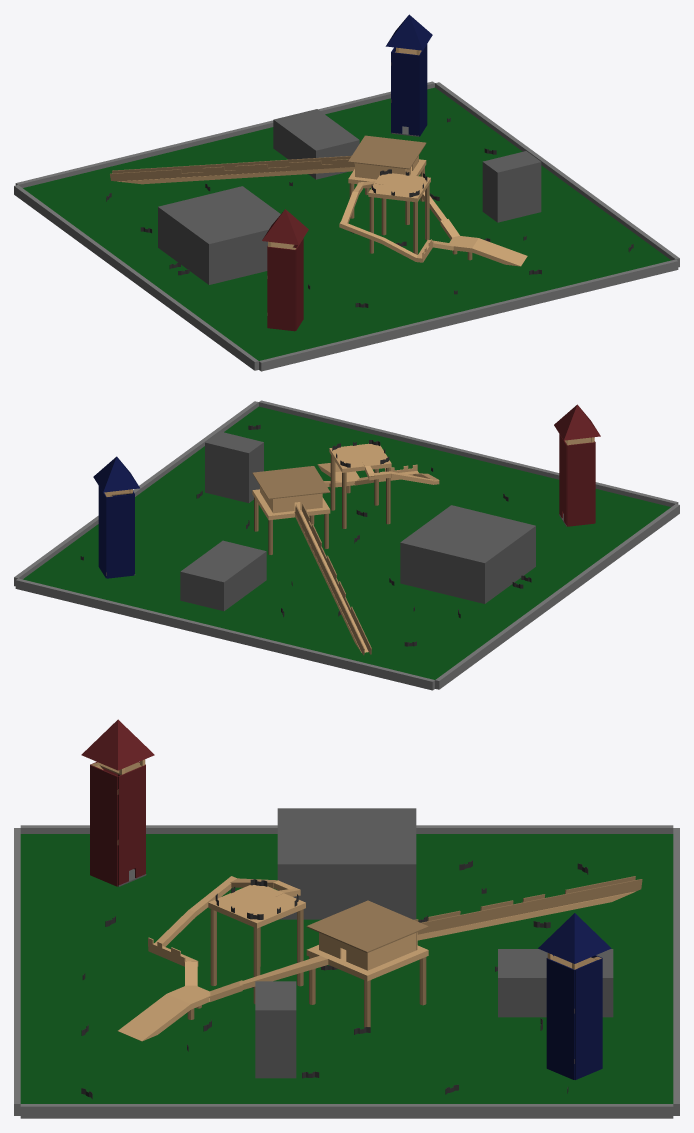
File: newredbluemap.glb
3 renders of one model, top to bottom at view 1: azimuth 30°, elevation 25°; view 2: azimuth 150°, elevation 25°; view 3: azimuth 270°, elevation 25°, orthographic. The views are drawn at different scales.
Parts seen in each view (by area): view 1: Plane, Plane.070, Plane.003, Plane.072, Plane.071, Plane.002, Plane.004, Plane.065, Plane.035, Plane.001, Plane.109, Plane.030 (+8 smaller); view 2: Plane, Plane.070, Plane.004, Plane.071, Plane.072, Plane.002, Plane.003, Plane.034, Plane.068, Plane.030, Plane.001, Plane.016 (+9 smaller); view 3: Plane, Plane.070, Plane.001, Plane.071, Plane.002, Plane.072, Plane.030, Plane.033, Plane.036, Plane.067, Plane.066, Plane.108 (+13 smaller).
Part boxes in pixels (<box>): Plane: <box>23,87,670,360</box>; Plane.070: <box>158,186,280,284</box>; Plane.003: <box>259,259,678,371</box>; Plane.072: <box>482,151,541,222</box>; Plane.071: <box>273,109,359,179</box>; Plane.002: <box>14,185,258,370</box>; Plane.004: <box>15,81,434,187</box>; Plane.065: <box>267,247,295,331</box>; Plane.035: <box>391,52,419,136</box>; Plane.001: <box>435,82,679,267</box>; Plane.109: <box>110,159,354,181</box>; Plane.030: <box>348,135,426,169</box>; Plane: <box>23,406,670,679</box>; Plane.070: <box>400,505,535,603</box>; Plane.004: <box>15,578,434,690</box>; Plane.071: <box>180,540,266,611</box>; Plane.072: <box>205,431,263,503</box>; Plane.002: <box>435,504,679,689</box>; Plane.003: <box>259,400,678,506</box>; Plane.034: <box>106,494,134,578</box>; Plane.068: <box>567,442,594,526</box>; Plane.030: <box>252,466,330,499</box>; Plane.001: <box>14,401,258,586</box>; Plane.016: <box>329,443,391,472</box>; Plane: <box>20,834,673,1103</box>; Plane.070: <box>277,808,416,919</box>; Plane.001: <box>20,1104,673,1118</box>; Plane.071: <box>498,949,613,1017</box>; Plane.002: <box>20,825,673,833</box>; Plane.072: <box>255,981,296,1078</box>; Plane.030: <box>306,900,428,952</box>; Plane.033: <box>546,958,574,1079</box>; Plane.036: <box>574,958,602,1079</box>; Plane.067: <box>90,765,117,886</box>; Plane.066: <box>118,765,145,885</box>; Plane.108: <box>417,879,642,934</box>.
Bounding box in the file's own units: 204 × 54.98 × 204.
